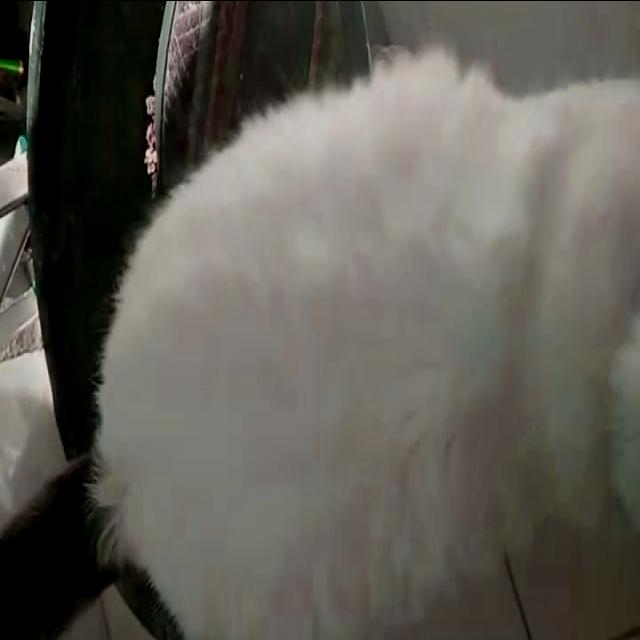Simba: (0, 150, 639, 640)
